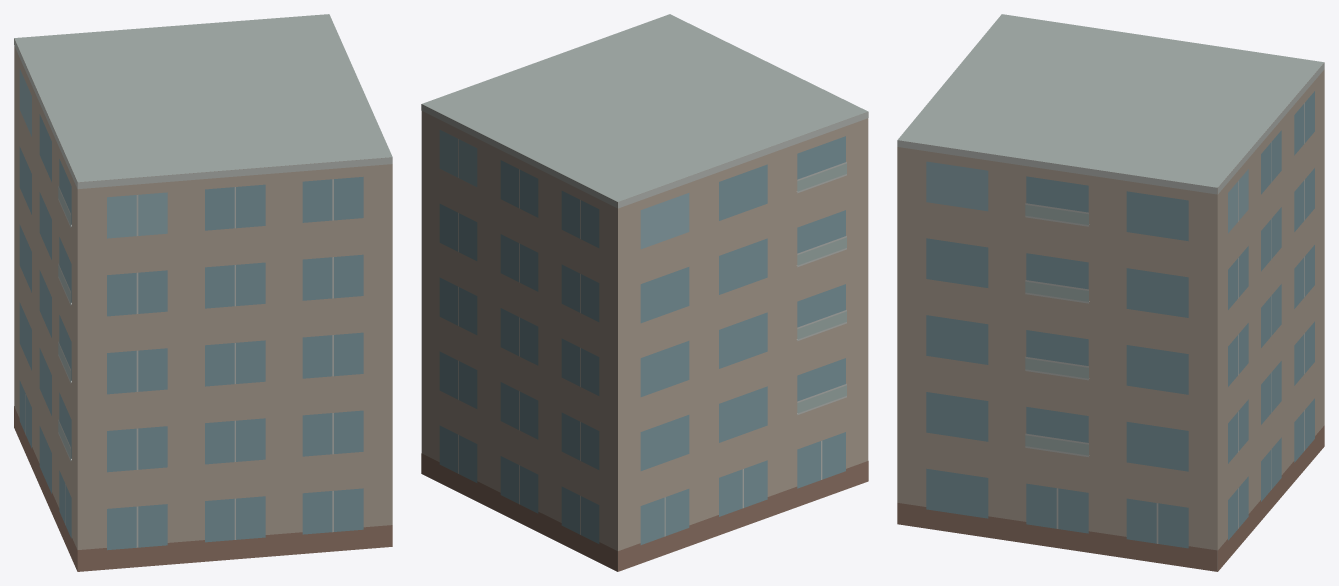
File: survey-upis-32883306.glb
The picture shows the model from 3 angles, left to right: view 1: azimuth 30°, elevation 25°; view 2: azimuth 150°, elevation 25°; view 3: azimuth 270°, elevation 25°; orthographic projection. The views are drawn at different scales.
Parts seen in each view (by area): view 1: survey-upis-32883306.tmp; view 2: survey-upis-32883306.tmp; view 3: survey-upis-32883306.tmp.
Part boxes in pixels (bbox=[...]): survey-upis-32883306.tmp: bbox=[14, 14, 392, 571]; survey-upis-32883306.tmp: bbox=[421, 14, 868, 571]; survey-upis-32883306.tmp: bbox=[897, 14, 1324, 571].
Bounding box in the file's own units: 13.4 × 13.8 × 13.92.
